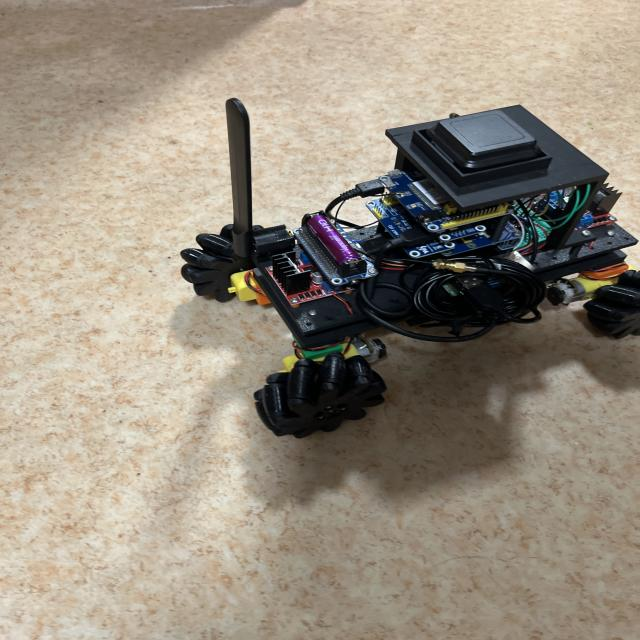robot: (181, 98, 640, 437)
